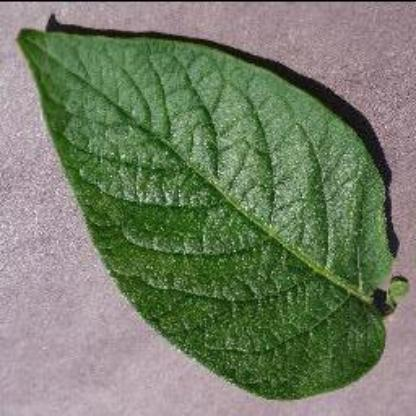Healthy-plant: (12, 14, 414, 402)
